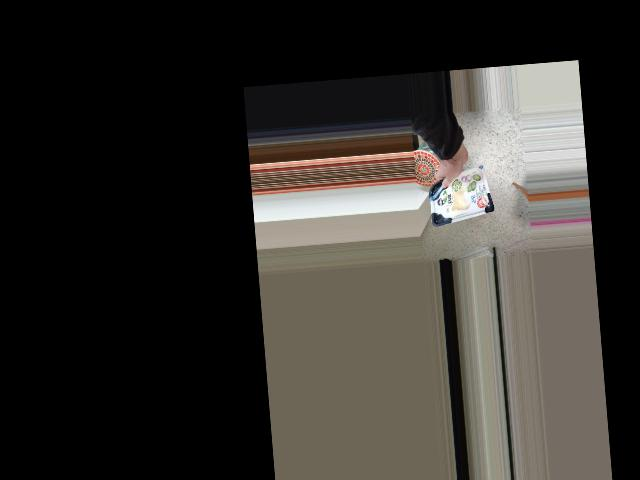cheese: (436, 156, 487, 209)
